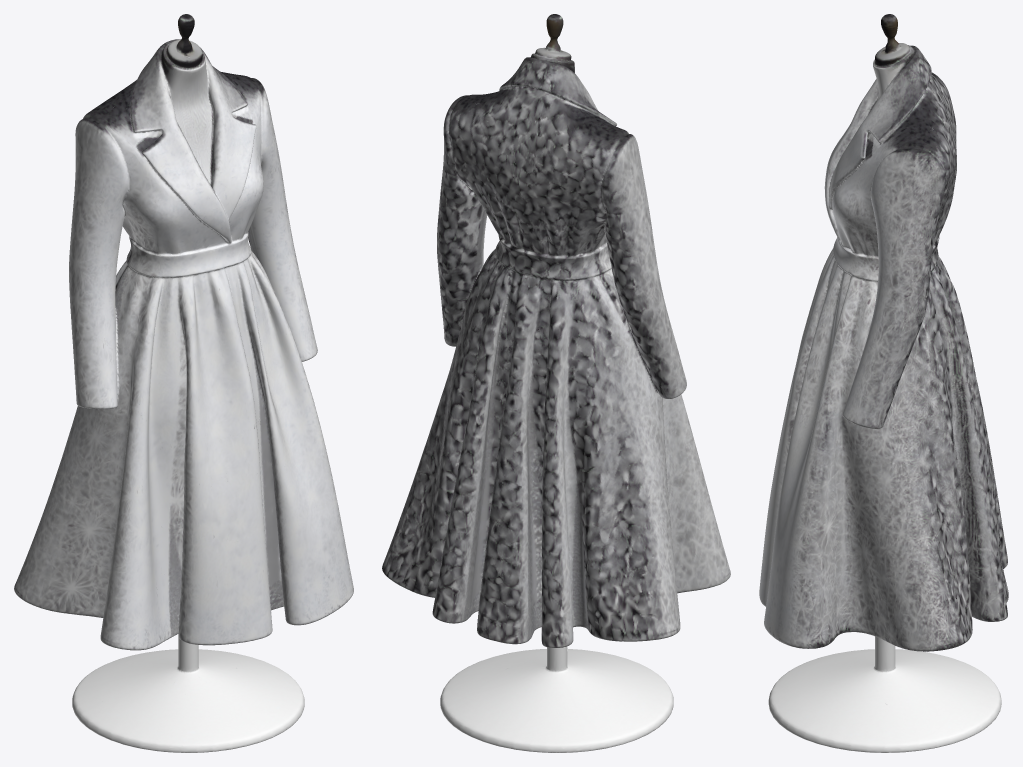
3 views of the same model, side by side, from view 1: azimuth 30°, elevation 25°; view 2: azimuth 150°, elevation 25°; view 3: azimuth 270°, elevation 25° (orthographic).
Size of the model in its own units: 0.8326 by 1.9 by 0.6225.
Materials: 1 (1 with a texture image).
